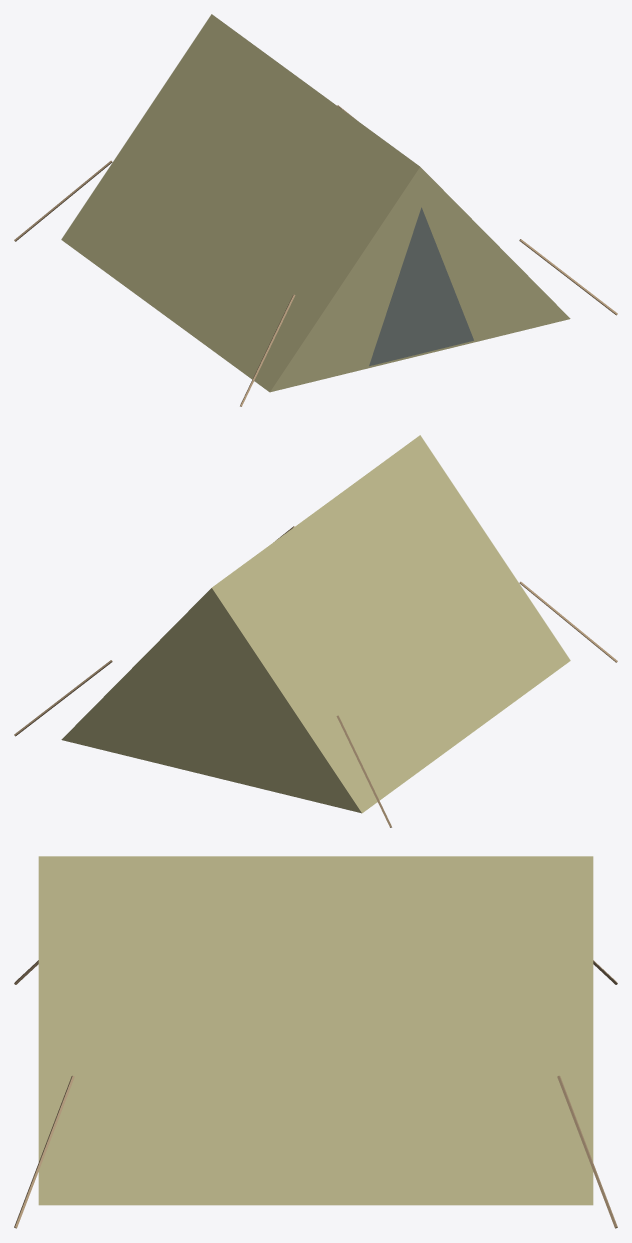
The model's file is camp-tent.glb.
3 renders of one model, top to bottom at view 1: azimuth 30°, elevation 25°; view 2: azimuth 150°, elevation 25°; view 3: azimuth 270°, elevation 25°, orthographic. The views are drawn at different scales.
Size of the model in its own units: 5.02 by 2.4 by 5.23.
